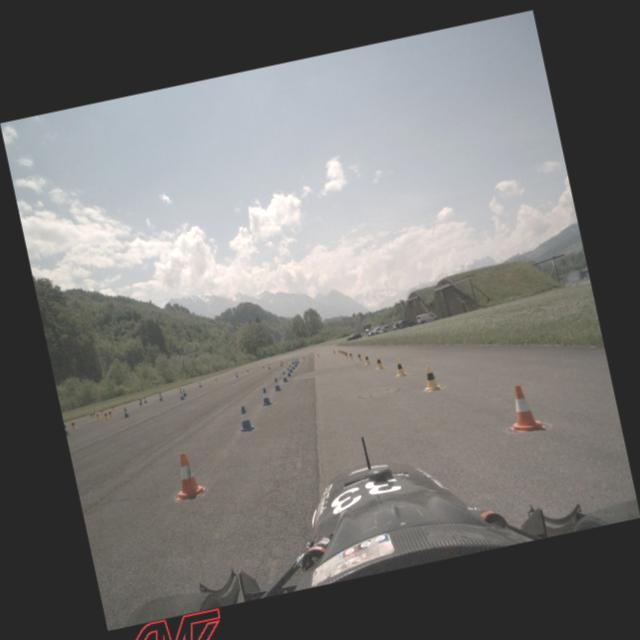blue_cone: (234, 404, 256, 434), (257, 386, 272, 406), (272, 376, 282, 392), (280, 370, 288, 382), (122, 406, 130, 418), (284, 367, 292, 378), (64, 422, 70, 436), (178, 390, 184, 400), (288, 363, 294, 372), (181, 388, 187, 397), (290, 362, 295, 370), (142, 396, 147, 404), (158, 393, 162, 402), (266, 363, 271, 369), (158, 392, 163, 398), (293, 360, 297, 367), (138, 398, 142, 405), (294, 359, 298, 365), (296, 357, 300, 363), (198, 382, 202, 388), (291, 358, 294, 363), (235, 372, 238, 377), (280, 360, 282, 366)
orange_cone: (501, 380, 546, 436), (166, 448, 207, 502)
yellow_cone: (419, 363, 442, 393), (392, 357, 408, 377), (372, 354, 384, 370), (68, 418, 78, 430), (362, 352, 371, 364), (102, 409, 109, 420), (356, 351, 363, 361), (108, 408, 114, 418), (94, 410, 100, 420), (98, 406, 104, 415), (348, 350, 353, 360), (110, 403, 115, 411), (344, 350, 348, 358), (342, 350, 346, 356), (261, 364, 265, 370), (138, 396, 142, 402), (92, 409, 95, 416), (89, 411, 92, 418), (332, 349, 336, 354), (280, 360, 284, 365), (246, 368, 250, 373), (214, 377, 218, 382), (179, 386, 182, 392), (340, 349, 343, 354), (316, 352, 319, 357), (302, 356, 305, 360), (338, 349, 340, 354)
